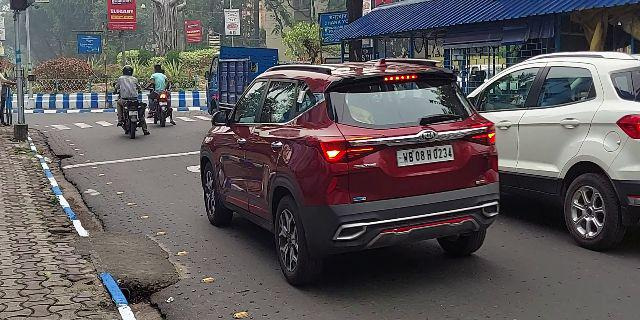Car: (197, 67, 506, 283), (459, 46, 640, 242)
Minitruck: (202, 46, 282, 113)
Motorbike: (109, 63, 157, 142), (145, 56, 178, 131)
